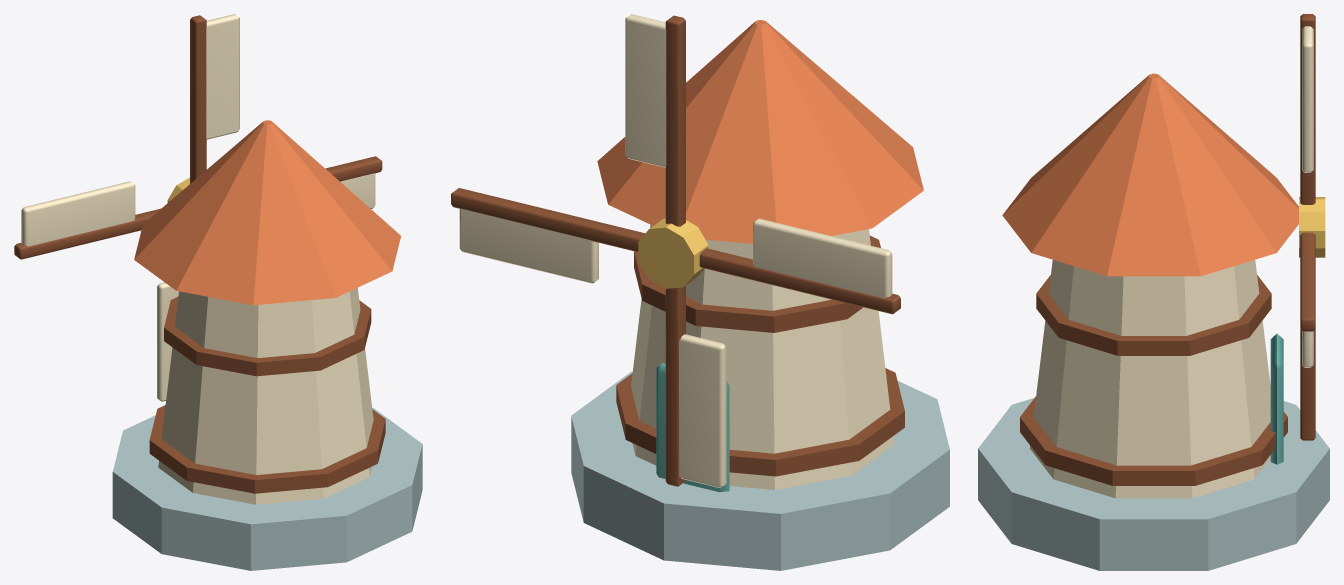
File: windmill.glb
3 renders of one model, left to right at view 1: azimuth 30°, elevation 25°; view 2: azimuth 150°, elevation 25°; view 3: azimuth 270°, elevation 25°, orthographic. The views are drawn at different scales.
Parts seen in each view (by area): view 1: Tower, Roof, Foot, Timber belt, Canvas.003, Timber belt.001, Canvas, Spoke, Spoke.003, Canvas.002, Spoke.001, Canvas.001; view 2: Roof, Foot, Tower, Canvas.003, Canvas.002, Timber belt, Canvas, Canvas.001, Timber belt.001, Spoke, Spoke.001, Hub (+3 smaller); view 3: Tower, Roof, Foot, Timber belt, Timber belt.001, Canvas, Door, Spoke.001, Spoke.002, Spoke, Hub.
Boxes of the visible parts, box(x1,y1,x2,y2) form: Tower: box(158, 288, 373, 504); Roof: box(134, 120, 400, 305); Foot: box(112, 408, 422, 570); Timber belt: box(149, 405, 385, 493); Canvas.003: box(21, 181, 135, 246); Timber belt.001: box(164, 297, 371, 376); Canvas: box(206, 14, 239, 139); Spoke: box(190, 15, 206, 183); Spoke.003: box(14, 208, 160, 259); Canvas.002: box(157, 282, 178, 401); Spoke.001: box(325, 156, 382, 181); Canvas.001: box(340, 173, 375, 208); Roof: box(597, 20, 923, 243); Foot: box(571, 371, 949, 570); Tower: box(631, 224, 894, 489); Canvas.003: box(753, 218, 892, 298); Canvas.002: box(679, 334, 726, 488); Timber belt: box(616, 368, 904, 476); Canvas: box(625, 14, 666, 167); Canvas.001: box(459, 208, 598, 283); Timber belt.001: box(634, 235, 880, 332); Spoke: box(665, 15, 685, 226); Spoke.001: box(451, 188, 644, 252); Hub: box(638, 218, 708, 288); Tower: box(1029, 260, 1270, 498); Roof: box(1002, 73, 1298, 276); Foot: box(978, 398, 1329, 570); Timber belt: box(1020, 396, 1287, 485); Timber belt.001: box(1036, 275, 1271, 355); Canvas: box(1302, 26, 1313, 172); Door: box(1270, 333, 1283, 464); Spoke.001: box(1300, 232, 1315, 331); Spoke.002: box(1300, 329, 1315, 440); Spoke: box(1300, 14, 1315, 204); Hub: box(1299, 197, 1325, 257).
Size of the model in its own units: 2.12 by 2.43 by 1.6.
